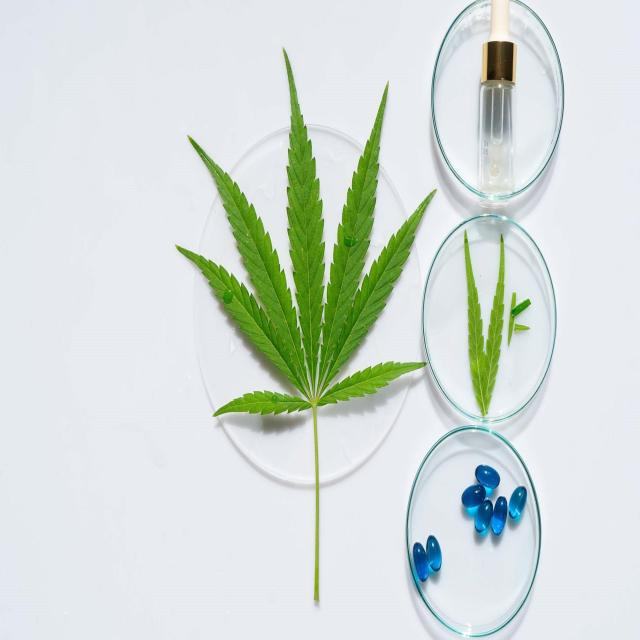cannabis: (176, 51, 436, 608), (464, 229, 505, 416)
